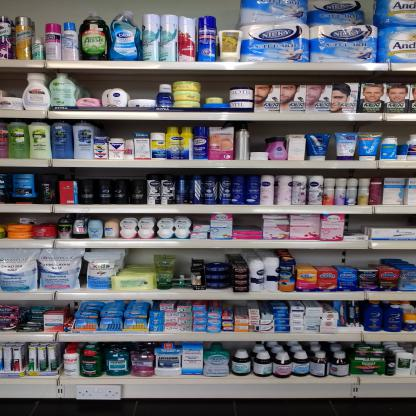Void: (352, 215, 414, 228), (128, 74, 156, 98), (254, 126, 272, 150), (237, 216, 258, 228)
